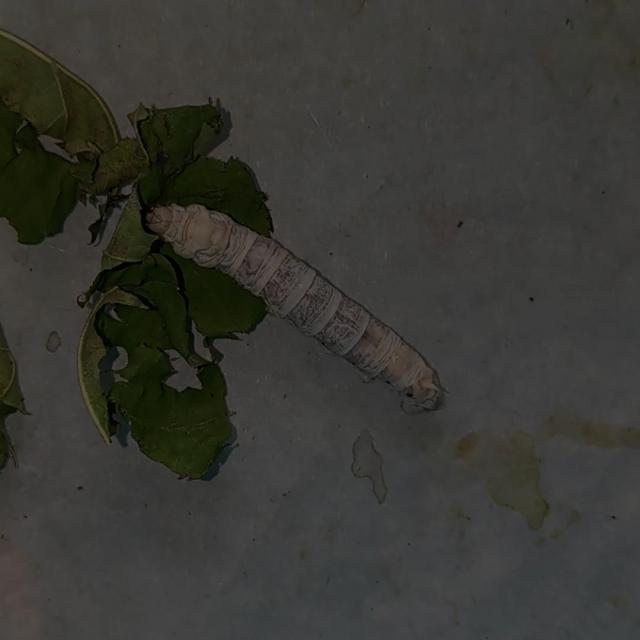Grasserie: (126, 169, 471, 445)
